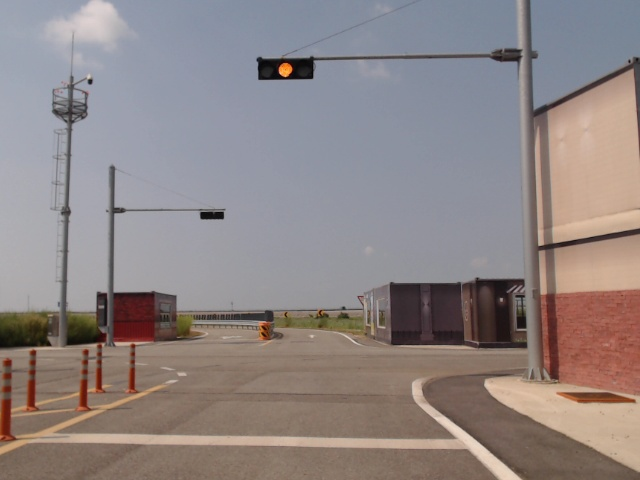orange_3: (259, 58, 314, 80)
